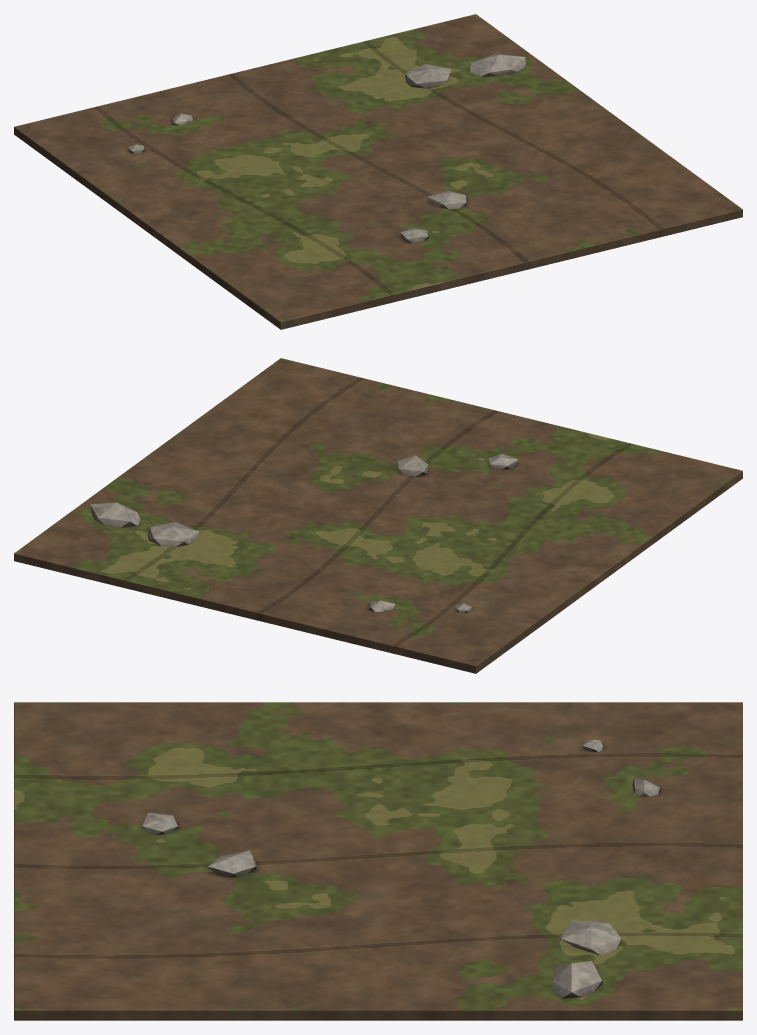
File: Suelo_Solar_60.glb
3 renders of one model, top to bottom at view 1: azimuth 30°, elevation 25°; view 2: azimuth 150°, elevation 25°; view 3: azimuth 270°, elevation 25°, orthographic. The views are drawn at different scales.
Visible parts, largest first — view 1: Suelo_Solar_60; view 2: Suelo_Solar_60; view 3: Suelo_Solar_60.
Part boxes in pixels (<box>): Suelo_Solar_60: <box>14,14,742,329</box>; Suelo_Solar_60: <box>14,358,742,673</box>; Suelo_Solar_60: <box>14,702,742,1020</box>.
Size of the model in its own units: 60 by 3.4 by 60.
1 material, 1 textured.
